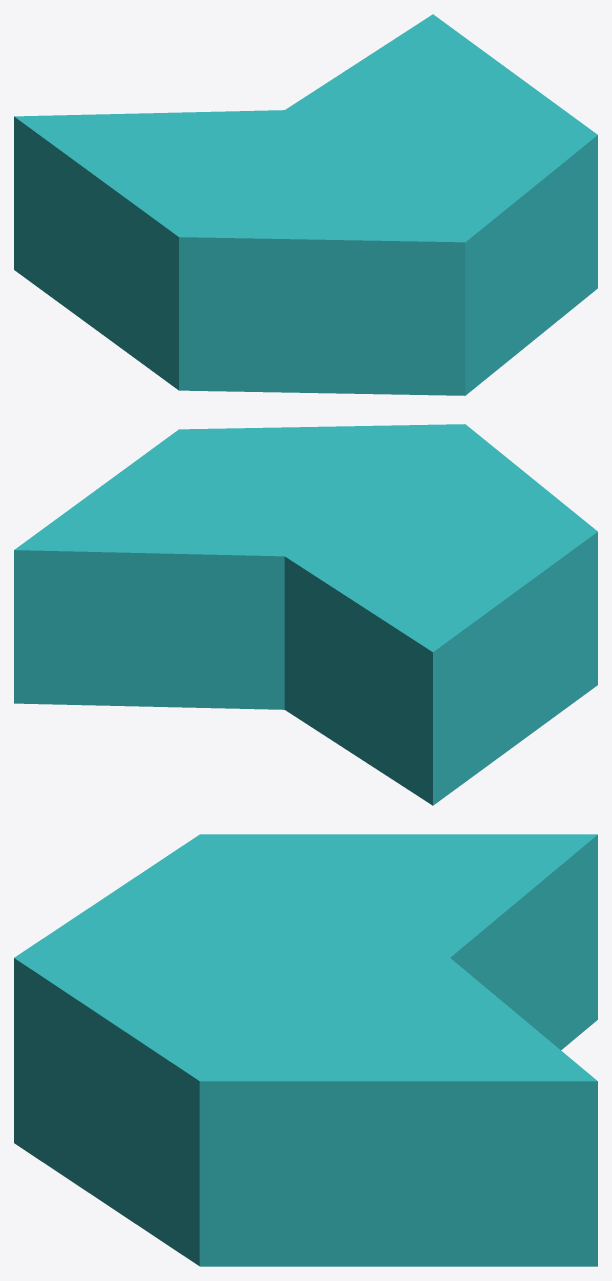
File: path_direction.glb
The picture shows the model from 3 angles, top to bottom: view 1: azimuth 30°, elevation 25°; view 2: azimuth 150°, elevation 25°; view 3: azimuth 270°, elevation 25°; orthographic projection. The views are drawn at different scales.
Visible parts, largest first — view 1: Cube; view 2: Cube; view 3: Cube.
Part boxes in pixels (x1=…): Cube: x1=14, y1=14, x2=597, y2=395; Cube: x1=14, y1=424, x2=597, y2=805; Cube: x1=14, y1=834, x2=597, y2=1266.
Bounding box in the file's own units: 1 × 0.35 × 1.
Materials: 1 (1 with a texture image).
